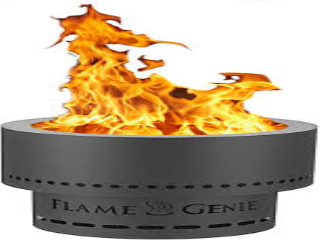fire: (46, 12, 279, 134)
